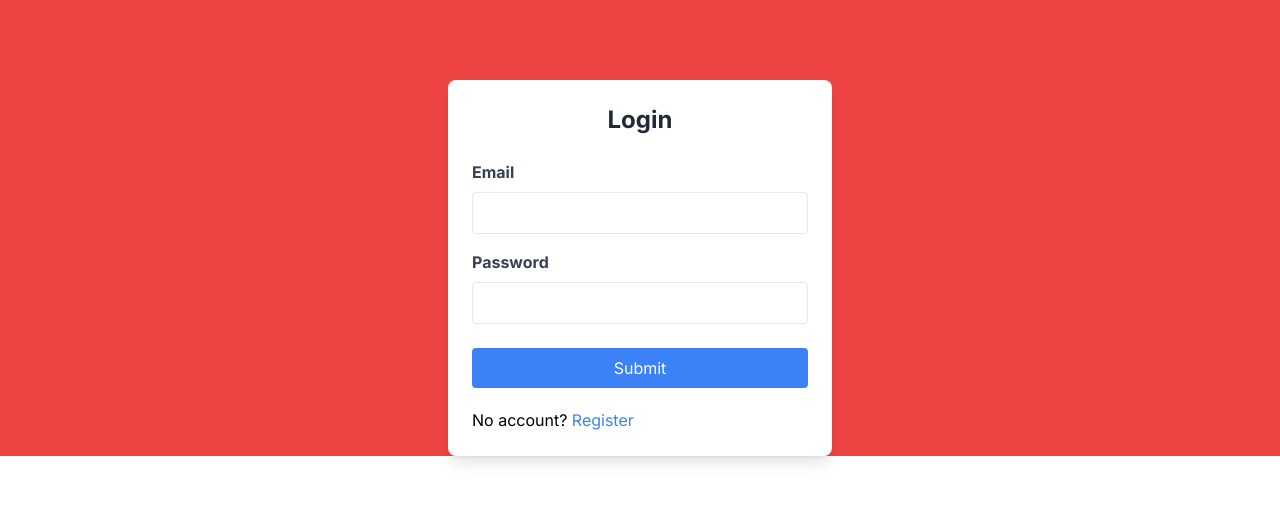
Test: form-testing › should show email error if email is invalid
Expected: the text "invalid email" is not shown
# type invalid email
Step 1. Type "invalid" into the field labelled "Email" → point(640, 213), box [472,192,808,234]
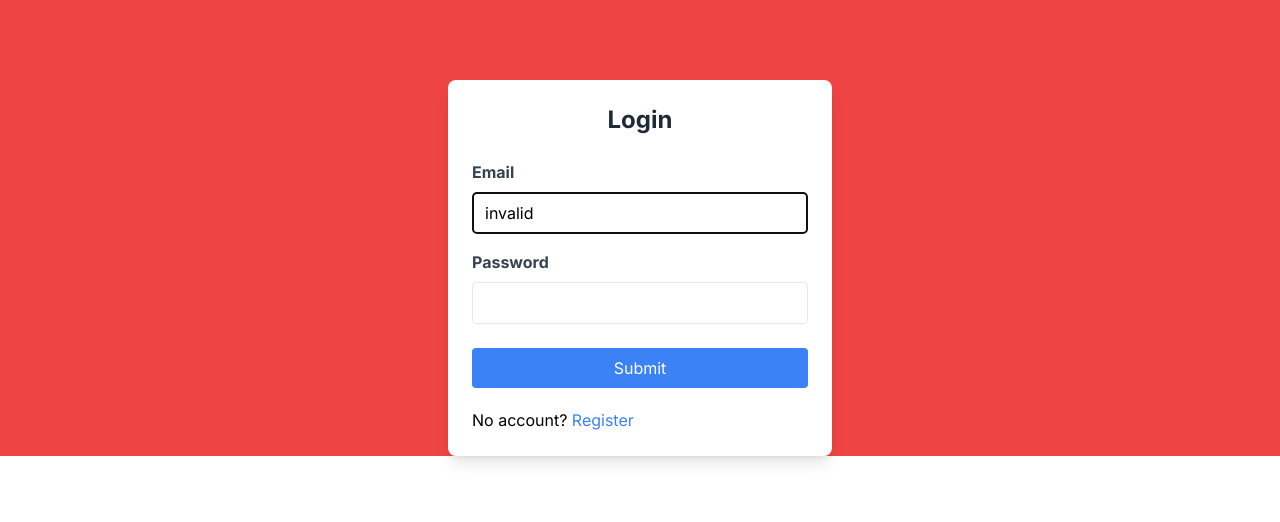
Step 2. Click the button "Submit" → point(640, 368), box [472,348,808,388]
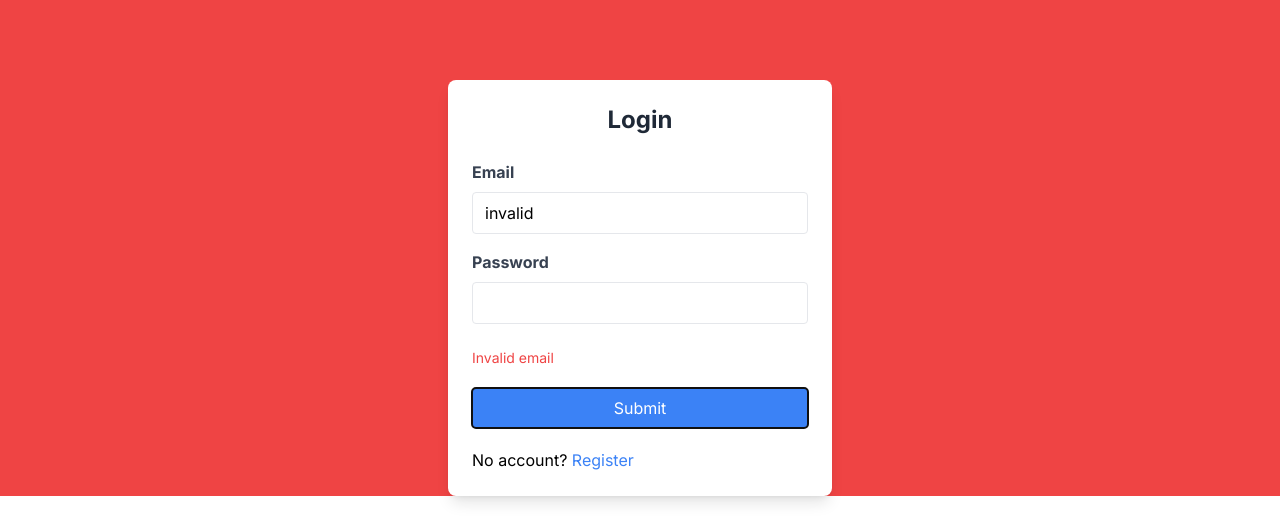
Result: the text "Invalid email" is shown at [472,349,554,366]
